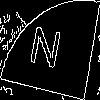N: (25, 25, 64, 79)
